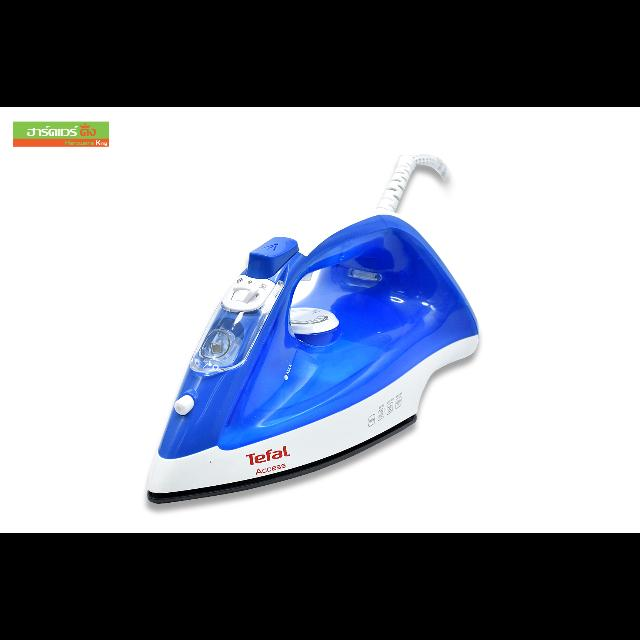Clothes-Iron: (138, 199, 486, 513)
